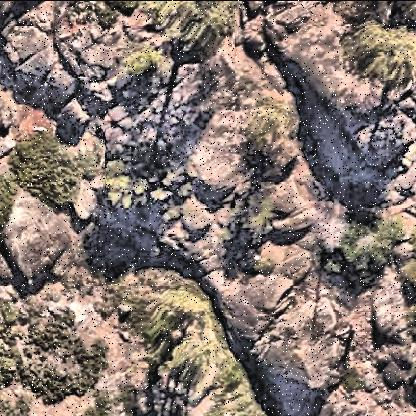tree-top: (139, 284, 213, 385), (334, 6, 415, 96), (12, 131, 93, 212), (334, 206, 408, 281), (249, 93, 305, 155), (117, 48, 165, 88)
